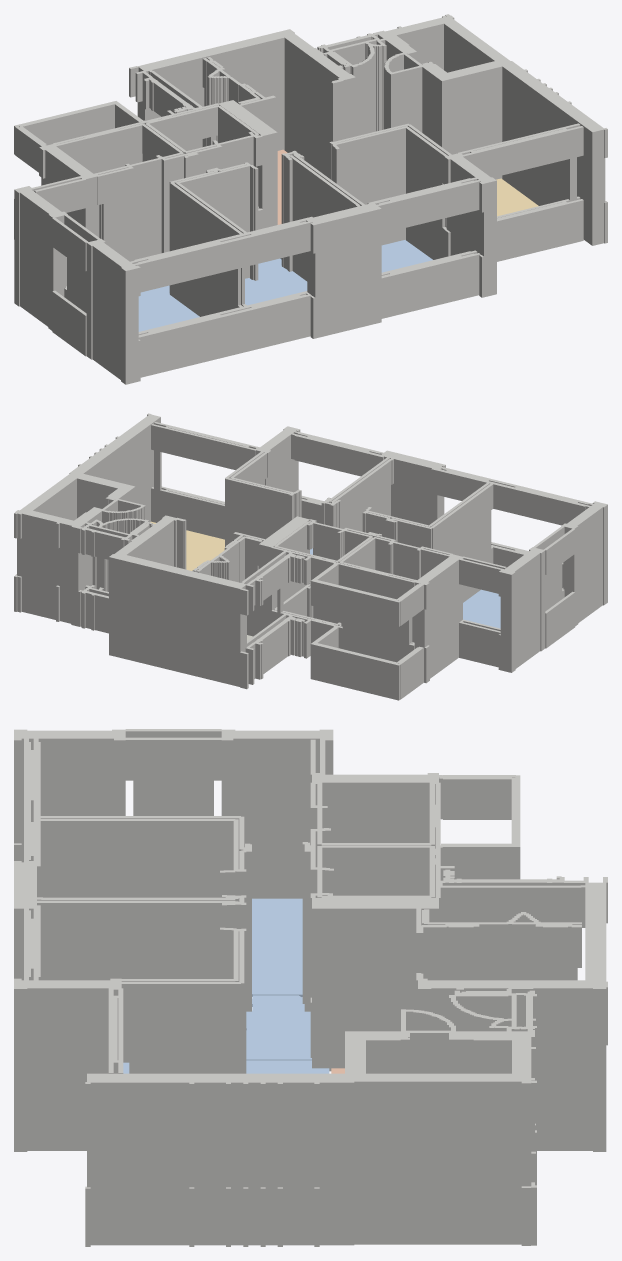
The picture shows the model from 3 angles, top to bottom: view 1: azimuth 30°, elevation 25°; view 2: azimuth 150°, elevation 25°; view 3: azimuth 270°, elevation 25°; orthographic projection. The views are drawn at different scales.
Visible parts, largest first — view 1: walls, room:bedroom:7, room:bedroom:6, room:bedroom:9, room:living:8; view 2: walls, room:bedroom:6, room:living:8; view 3: walls, room:bedroom:6, room:bedroom:7, room:bedroom:9.
Part boxes in pixels (left/top/right/bottom): walls: left=14, top=14, right=607, bottom=384; room:bedroom:7: left=245, top=258, right=307, bottom=305; room:bedroom:6: left=138, top=285, right=199, bottom=331; room:bedroom:9: left=280, top=240, right=432, bottom=272; room:living:8: left=496, top=178, right=538, bottom=216; walls: left=14, top=413, right=607, bottom=700; room:bedroom:6: left=463, top=589, right=500, bottom=628; room:living:8: left=150, top=521, right=224, bottom=570; walls: left=14, top=729, right=607, bottom=1246; room:bedroom:6: left=252, top=898, right=302, bottom=997; room:bedroom:7: left=246, top=995, right=311, bottom=1060; room:bedroom:9: left=123, top=1060, right=329, bottom=1073.
Size of the model in its own units: 13.1 by 2.8 by 9.26.
